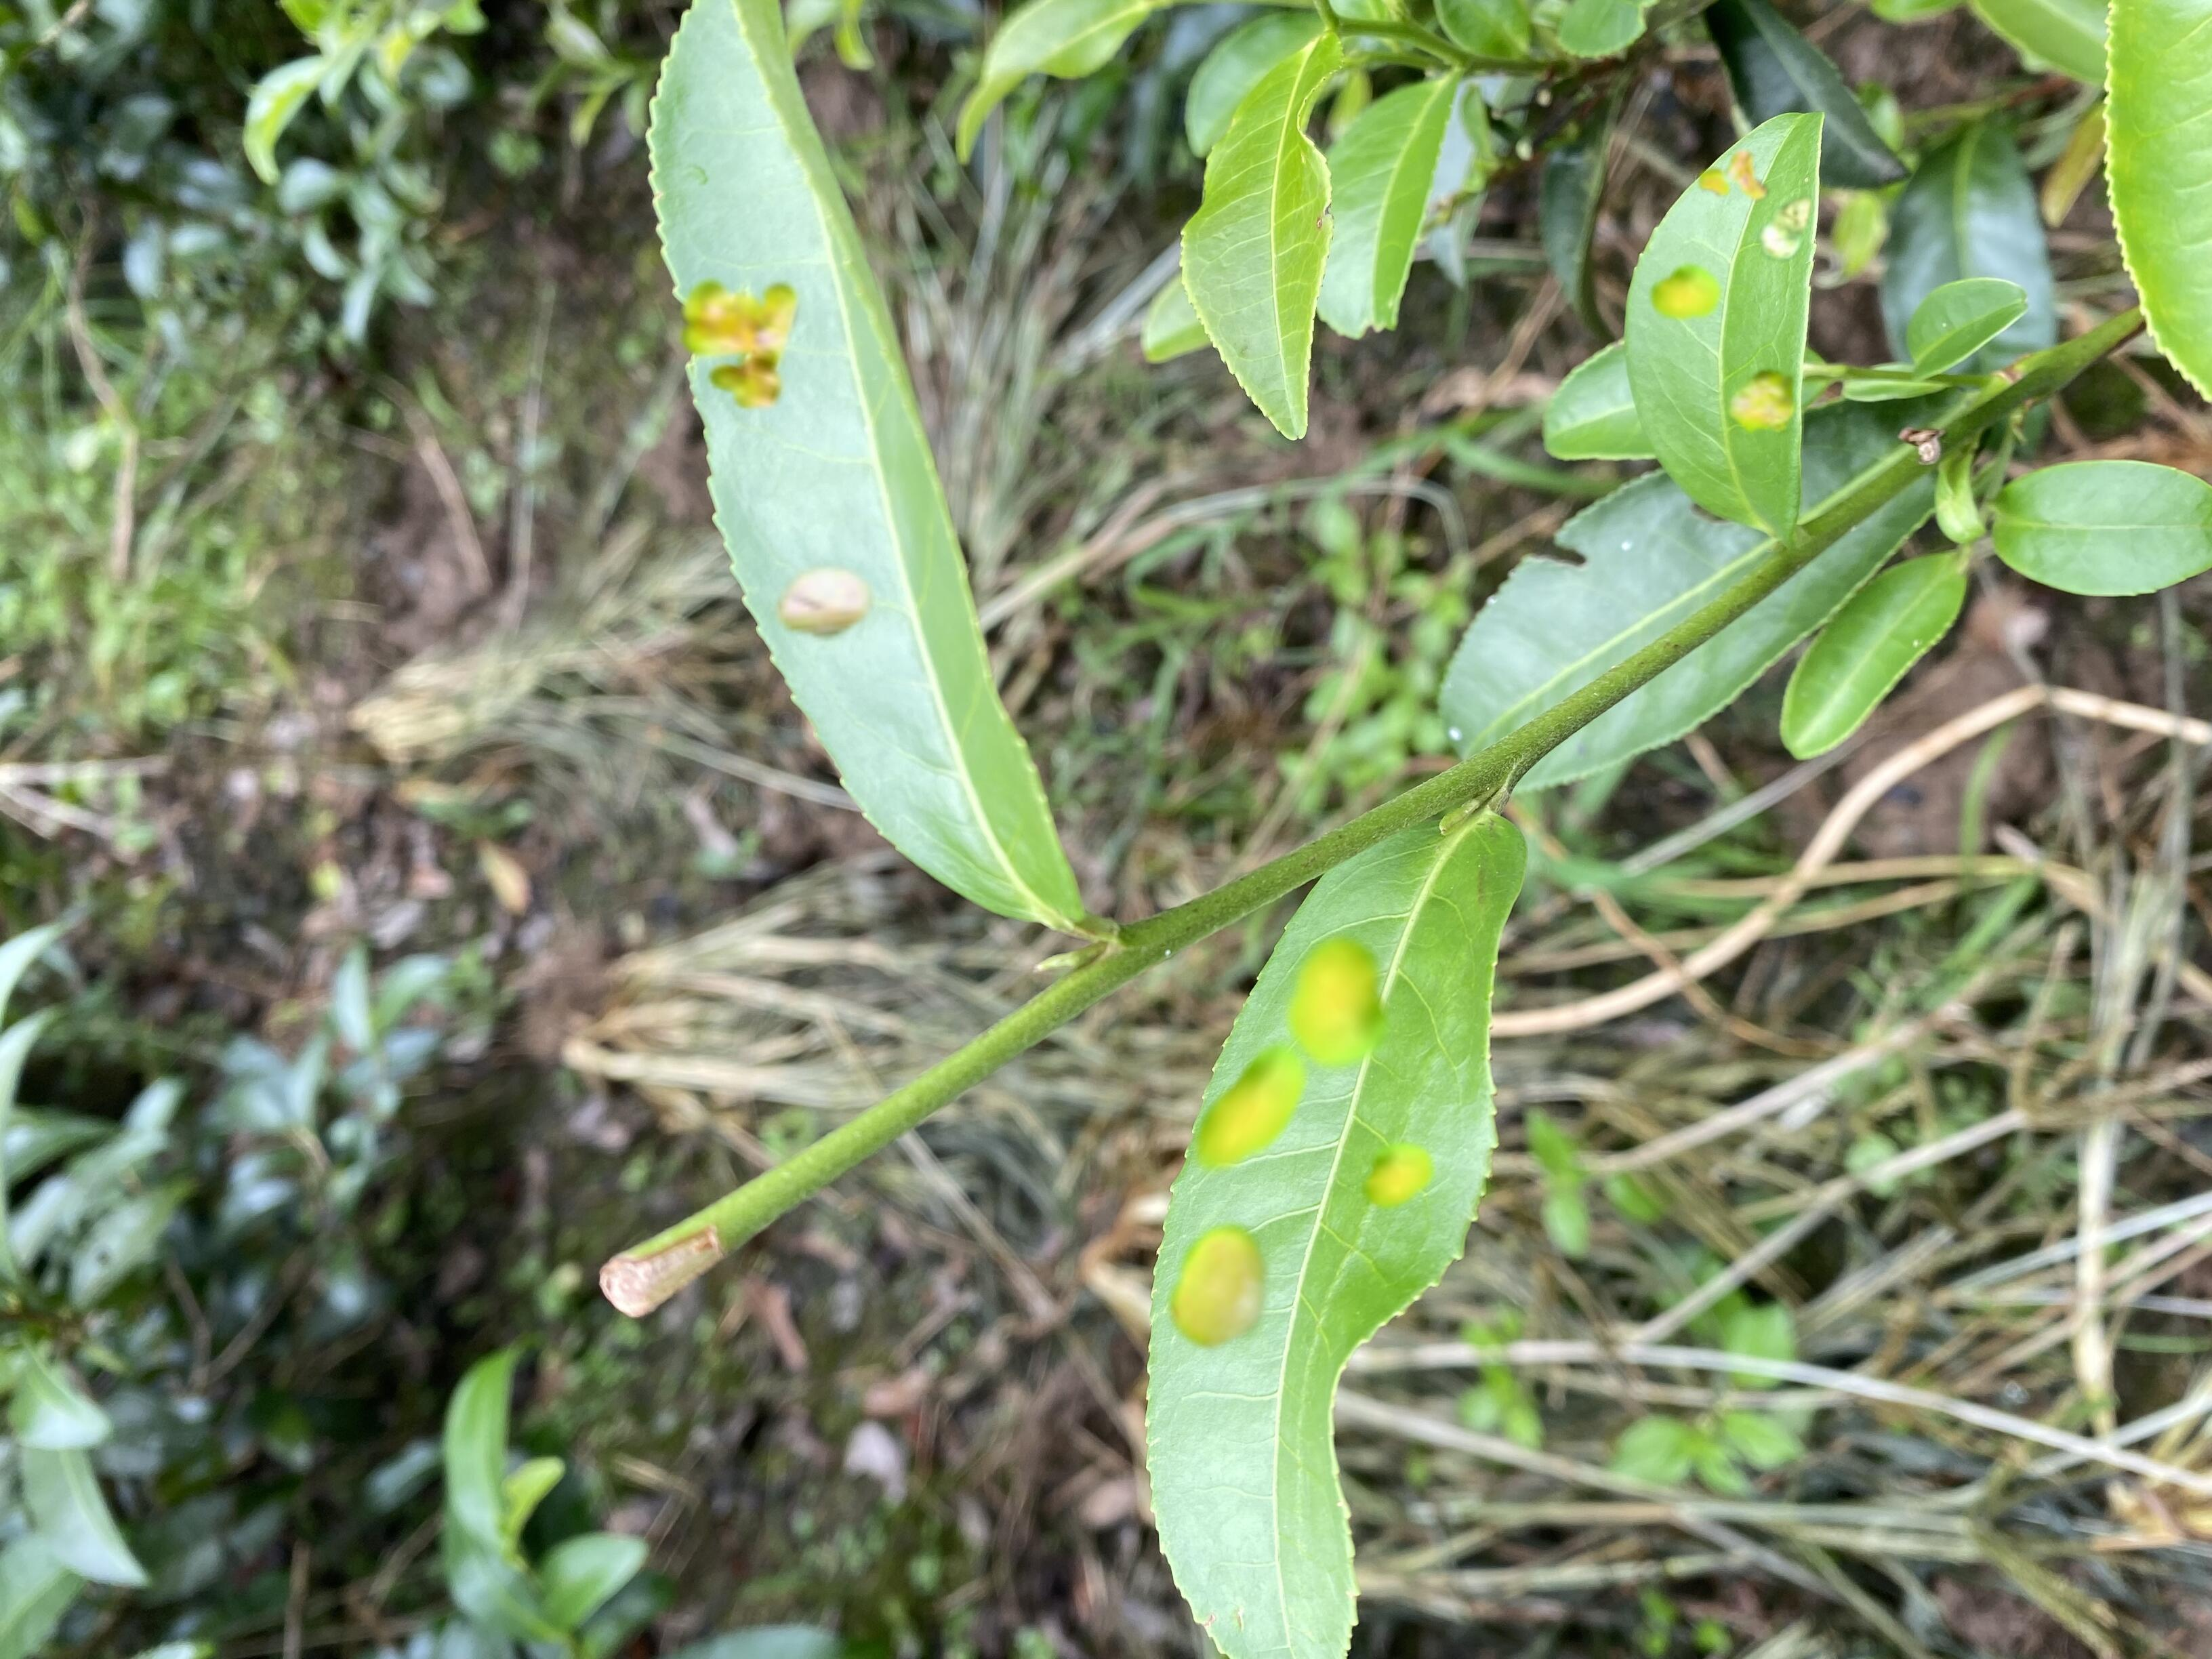chabing_high: (639, 2, 1085, 929), (1150, 810, 1531, 1656), (1625, 110, 1829, 537)
chihuo_low: (1440, 471, 1691, 791), (1320, 82, 1467, 342)
healthy: (1181, 35, 1338, 439), (1778, 551, 1965, 762), (1989, 455, 2212, 599), (1907, 279, 2029, 382)
